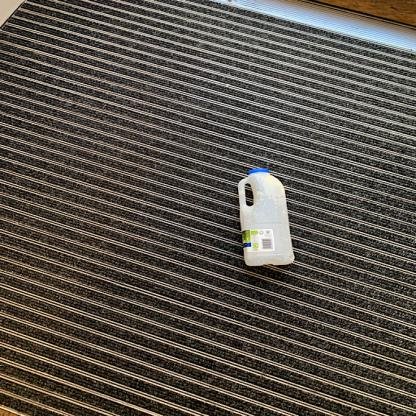trash: (234, 167, 297, 265)
